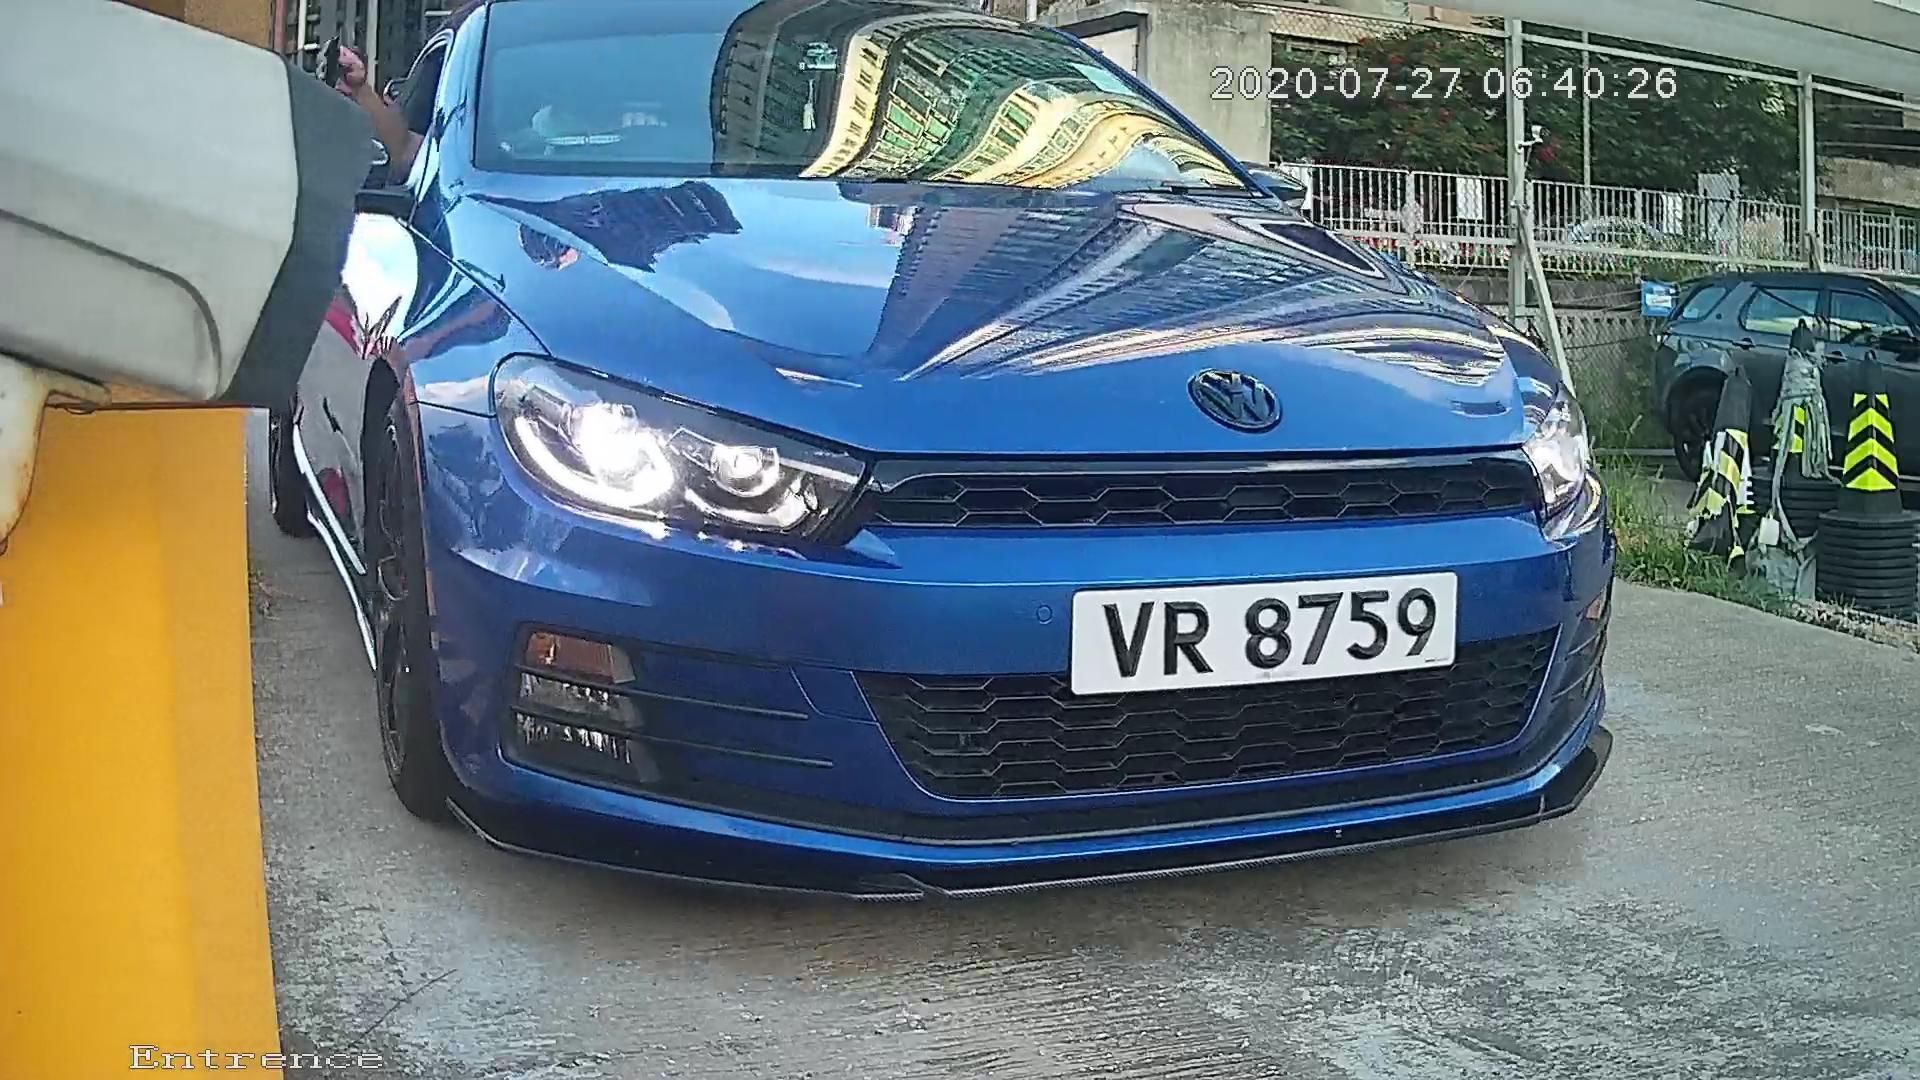License Plate: (1046, 555, 1466, 709)
